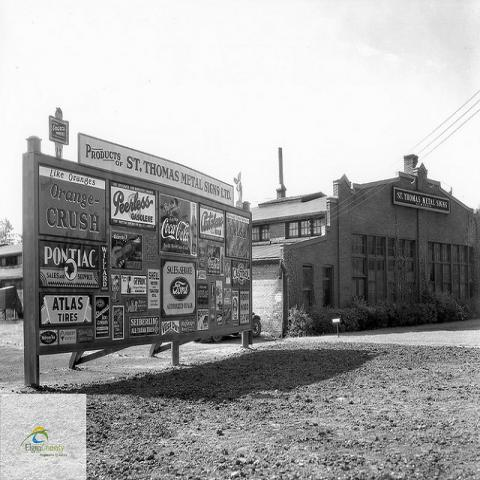car: (195, 312, 262, 345)
